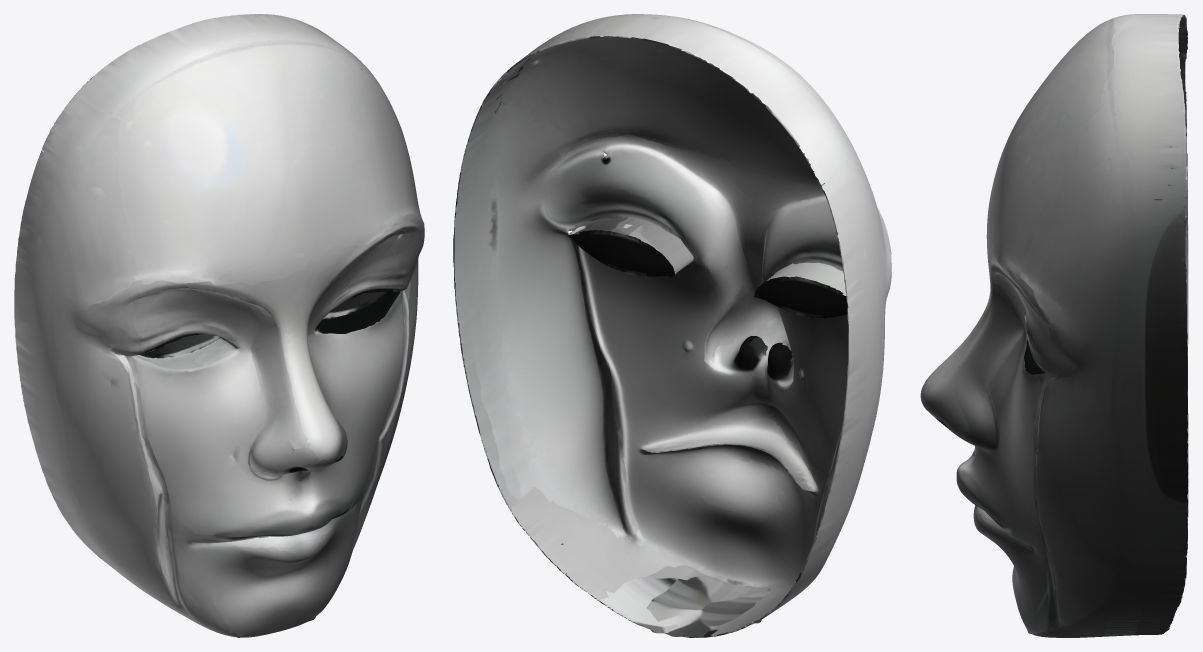
Rendered from mask.glb.
3 views of the same model, side by side, from view 1: azimuth 30°, elevation 25°; view 2: azimuth 150°, elevation 25°; view 3: azimuth 270°, elevation 25° (orthographic). The views are drawn at different scales.
Visible parts, largest first — view 1: Mask; view 2: Mask; view 3: Mask.
Boxes of the visible parts, x1,y1,x2,y2 form: Mask: (14, 14, 424, 637); Mask: (453, 14, 891, 637); Mask: (920, 14, 1188, 637).
Size of the model in its own units: 0.1653 by 0.24 by 0.0995.
1 material, 1 textured.
